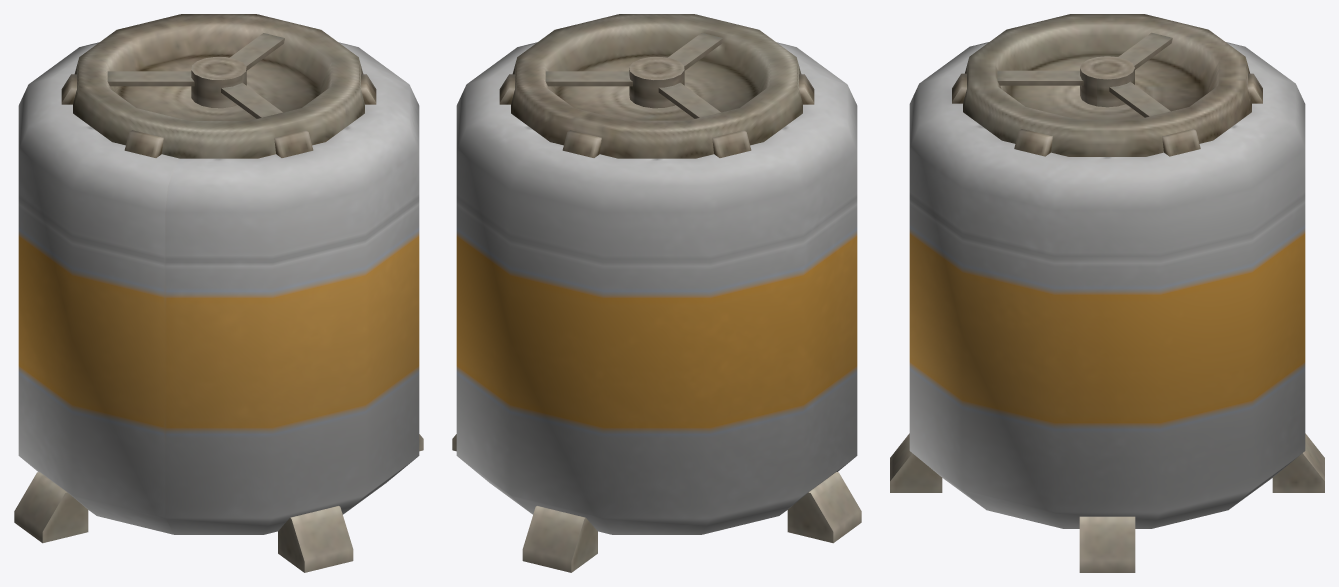
Rendered from Vat.FBX.
3 renders of one model, left to right at view 1: azimuth 30°, elevation 25°; view 2: azimuth 150°, elevation 25°; view 3: azimuth 270°, elevation 25°, orthographic.
Parts seen in each view (by area): view 1: Vat, Vat_Fan; view 2: Vat, Vat_Fan; view 3: Vat, Vat_Fan.
Boxes of the visible parts, x1,y1,x2,y2 form: Vat: (14,14,423,572); Vat_Fan: (107,33,284,118); Vat: (452,14,861,572); Vat_Fan: (545,33,722,118); Vat: (890,14,1324,572); Vat_Fan: (997,32,1172,117).
Size of the model in its own units: 581 by 609 by 581.
